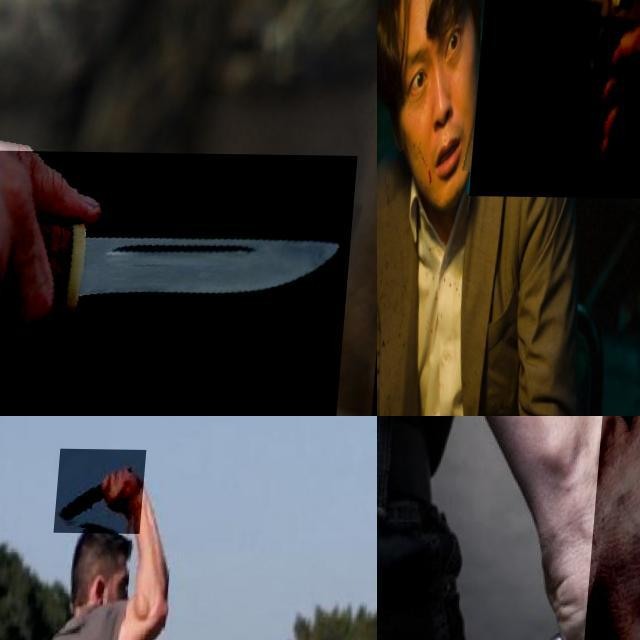-: (0, 149, 361, 416), (587, 416, 640, 640), (59, 448, 150, 533)
gun-knife-thesis - v11 Yolov5 augmented: (473, 0, 640, 198)
